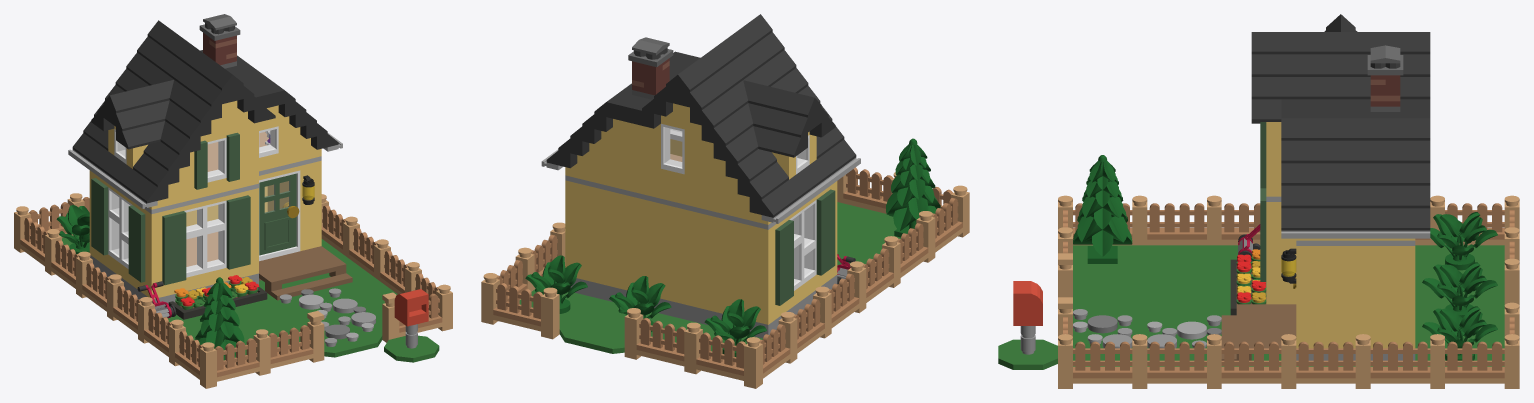
Rendered from house2.glb.
3 renders of one model, left to right at view 1: azimuth 30°, elevation 25°; view 2: azimuth 150°, elevation 25°; view 3: azimuth 270°, elevation 25°, orthographic. The views are drawn at different scales.
Parts seen in each view (by area): view 1: BMC_Plastic_Bevel_5, BMC_Plastic_Stud_5, BMC_Plastic_Bumpy_5, BMC_Glass_Bevel_2; view 2: BMC_Plastic_Bevel_5, BMC_Plastic_Bumpy_5, BMC_Plastic_Stud_5, BMC_Glass_Bevel_2; view 3: BMC_Plastic_Bevel_5, BMC_Plastic_Bumpy_5, BMC_Plastic_Stud_5.
Part boxes in pixels (box(x1,y1,x2,y2)): BMC_Plastic_Bevel_5: box(14, 19, 452, 388); BMC_Plastic_Stud_5: box(14, 25, 452, 357); BMC_Plastic_Bumpy_5: box(73, 14, 236, 200); BMC_Glass_Bevel_2: box(112, 130, 289, 271); BMC_Plastic_Bevel_5: box(481, 29, 969, 388); BMC_Plastic_Bumpy_5: box(632, 14, 855, 214); BMC_Plastic_Stud_5: box(481, 50, 969, 351); BMC_Glass_Bevel_2: box(665, 127, 812, 282); BMC_Plastic_Bevel_5: box(998, 51, 1519, 388); BMC_Plastic_Bumpy_5: box(1251, 14, 1430, 227); BMC_Plastic_Stud_5: box(998, 67, 1519, 366).
Bounding box in the file's own units: 23 × 20.8 × 35.
Materials: 13 (4 with a texture image).
